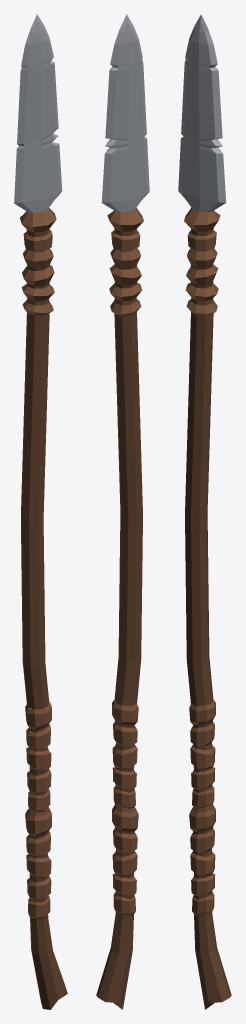
The model's file is Spear.glb.
3 views of the same model, side by side, from view 1: azimuth 30°, elevation 25°; view 2: azimuth 210°, elevation 25°; view 3: azimuth 330°, elevation 25° (orthographic).
Visible parts, largest first — view 1: Spear; view 2: Spear; view 3: Spear.
Boxes of the visible parts, x1,y1,x2,y2 form: Spear: [14, 14, 67, 1009]; Spear: [96, 14, 149, 1009]; Spear: [178, 14, 231, 1009].
Size of the model in its own units: 0.5301 by 9.72 by 0.3249.
